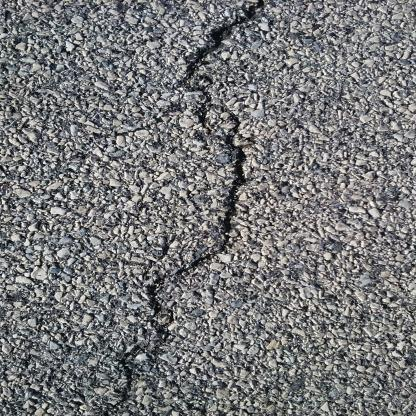Cracks: (90, 1, 281, 416)
